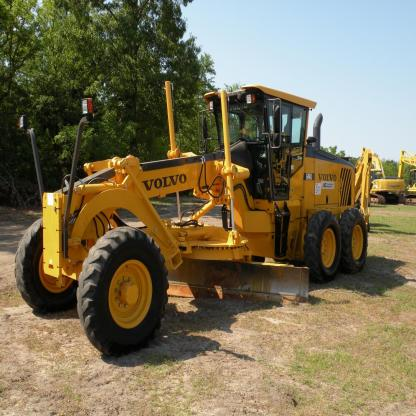bull_dozer/loader/grader: (7, 62, 393, 356)
